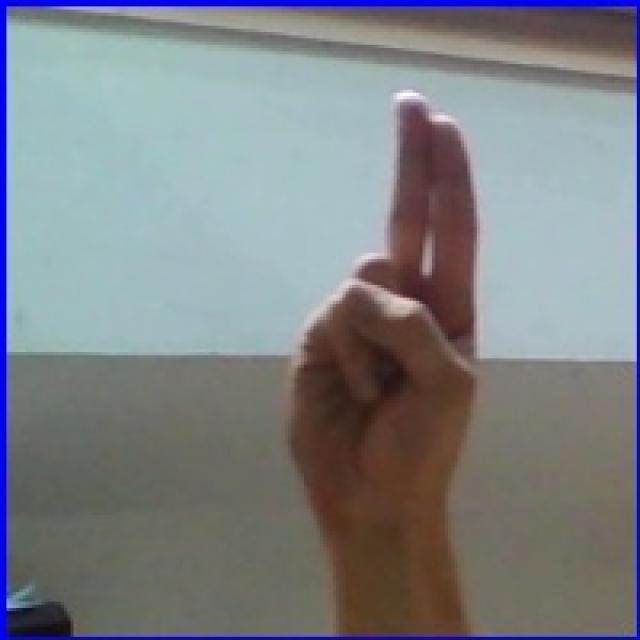Letra-U: (257, 71, 528, 517)
